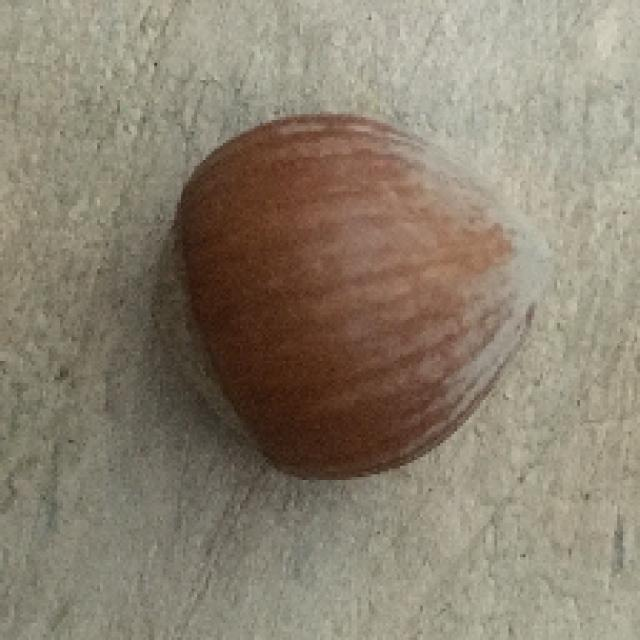QualityHazelnut: (152, 110, 560, 481)
